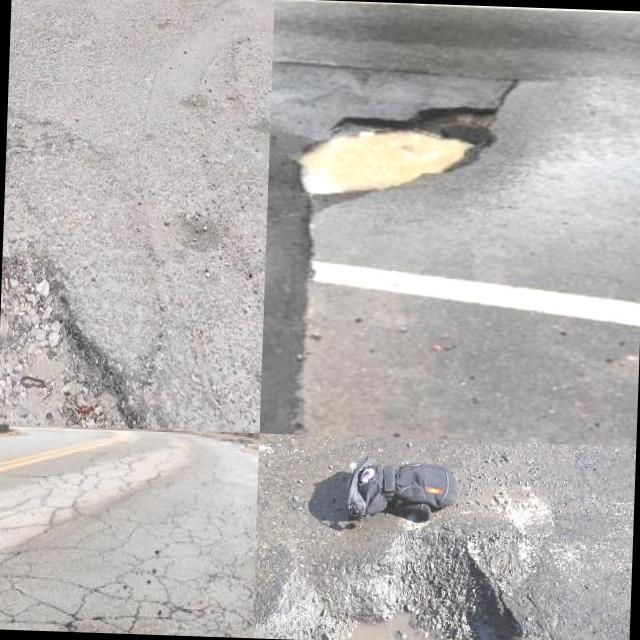Pothole: (265, 539, 521, 640), (0, 248, 142, 429), (296, 106, 493, 194)
